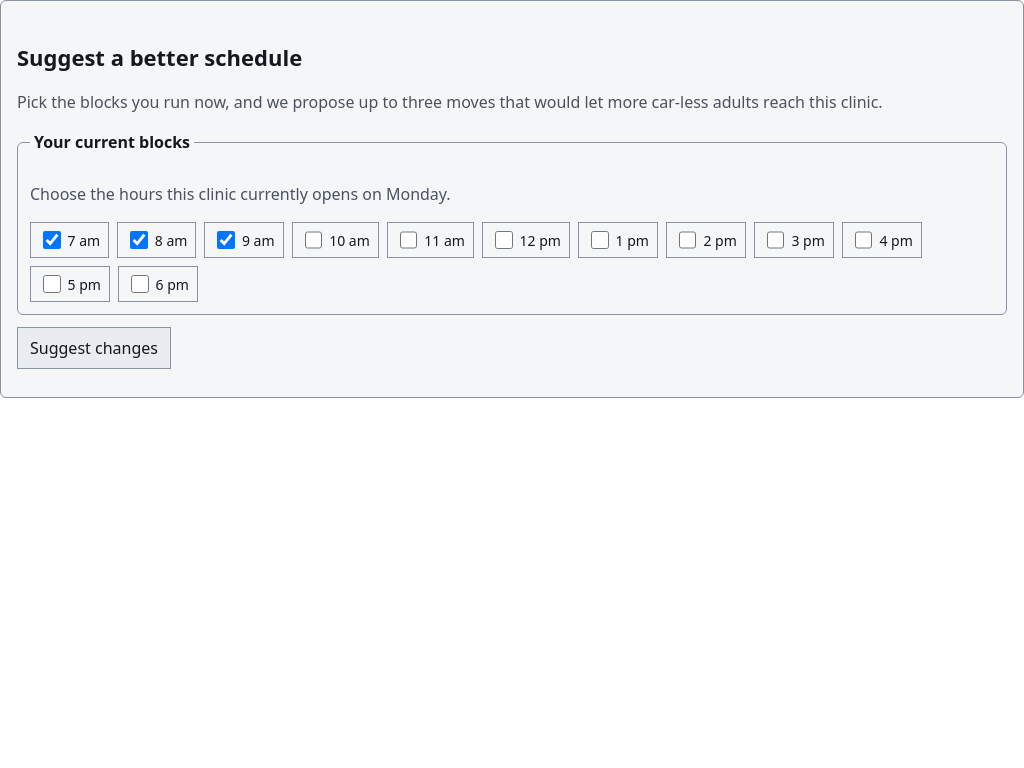
it: SuggestPanel › flags a suggestion illustrative when any source is illustrative
The image size is (1024, 768).
Click the button "Suggest changes" at (94, 348), box [17,327,171,369]
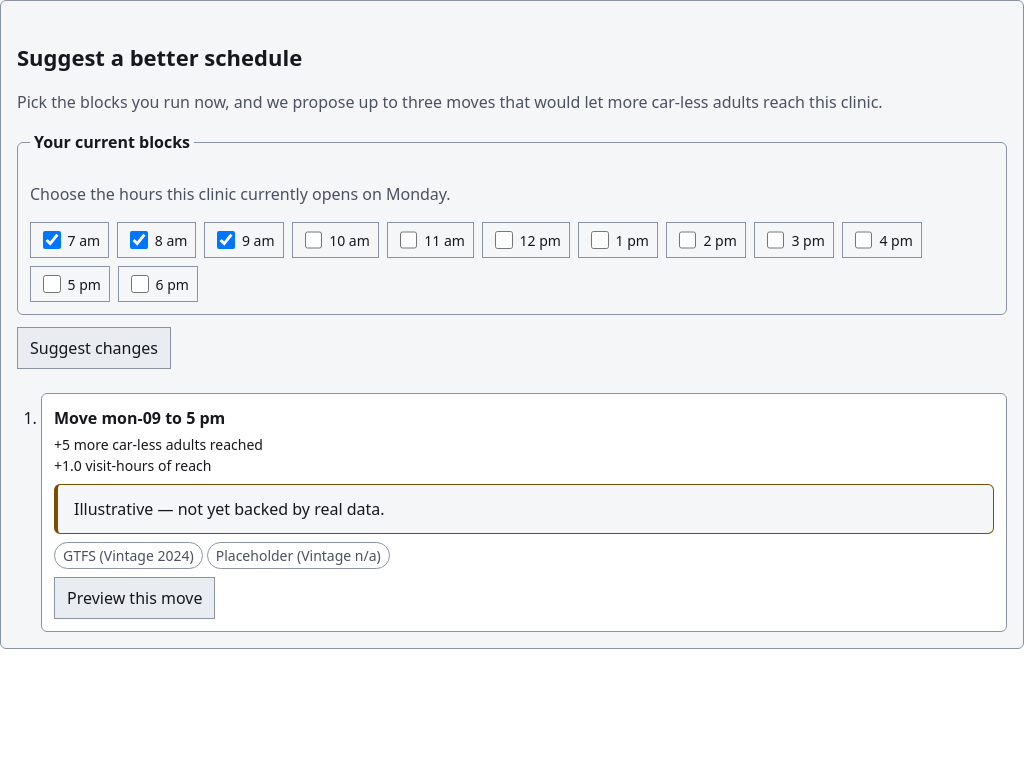
Expected: the text "Illustrative — not yet backed by real data." is shown, [54,484,994,534]
